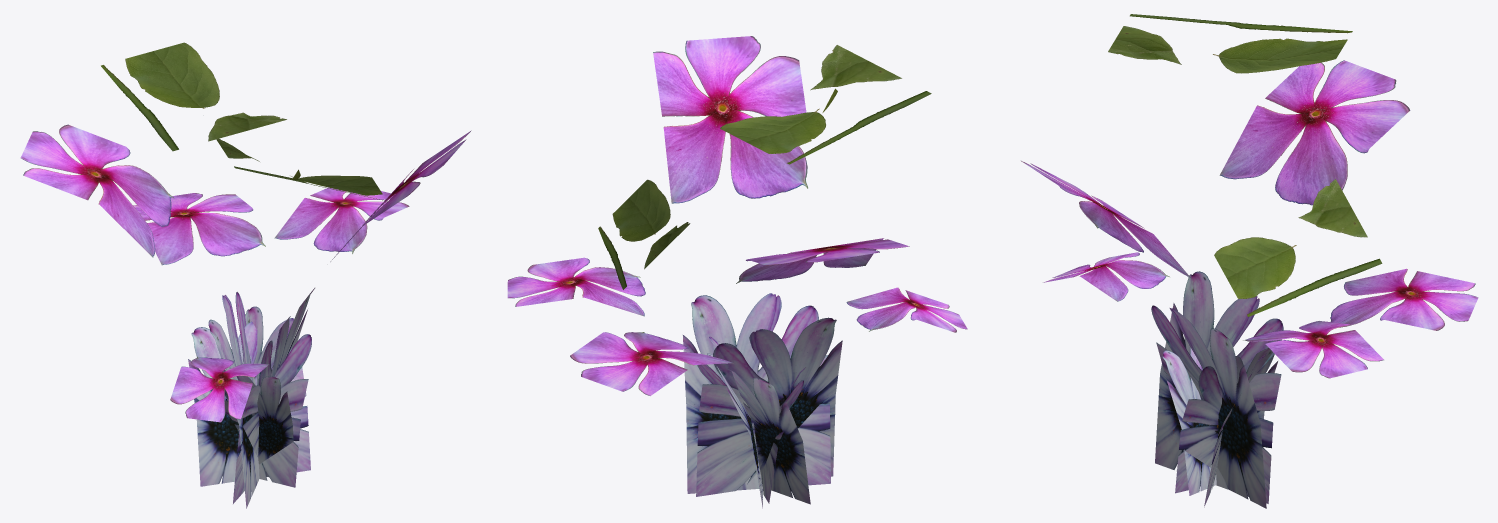
File: dandelion.gltf
3 renders of one model, left to right at view 1: azimuth 30°, elevation 25°; view 2: azimuth 150°, elevation 25°; view 3: azimuth 270°, elevation 25°, orthographic. The views are drawn at different scales.
Visible parts, largest first — view 1: dandelion; view 2: dandelion; view 3: dandelion.
Boxes of the visible parts, bbox=[...] form: dandelion: bbox=[20, 42, 471, 508]; dandelion: bbox=[507, 36, 967, 508]; dandelion: bbox=[1021, 14, 1478, 508].
Size of the model in its own units: 0.0989 by 0.0964 by 0.0978.
